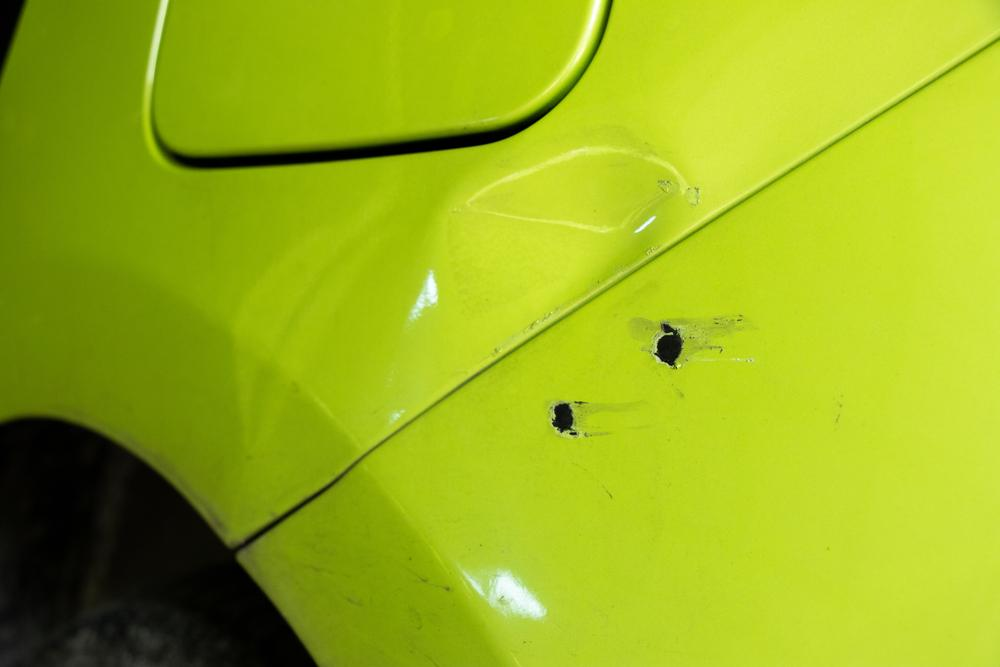dent: (452, 150, 686, 340)
scratch: (526, 300, 756, 451)
